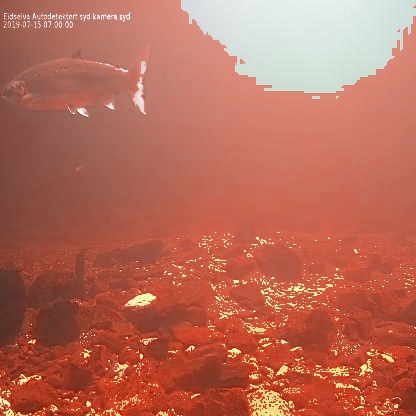salmon: (1, 43, 154, 120)
